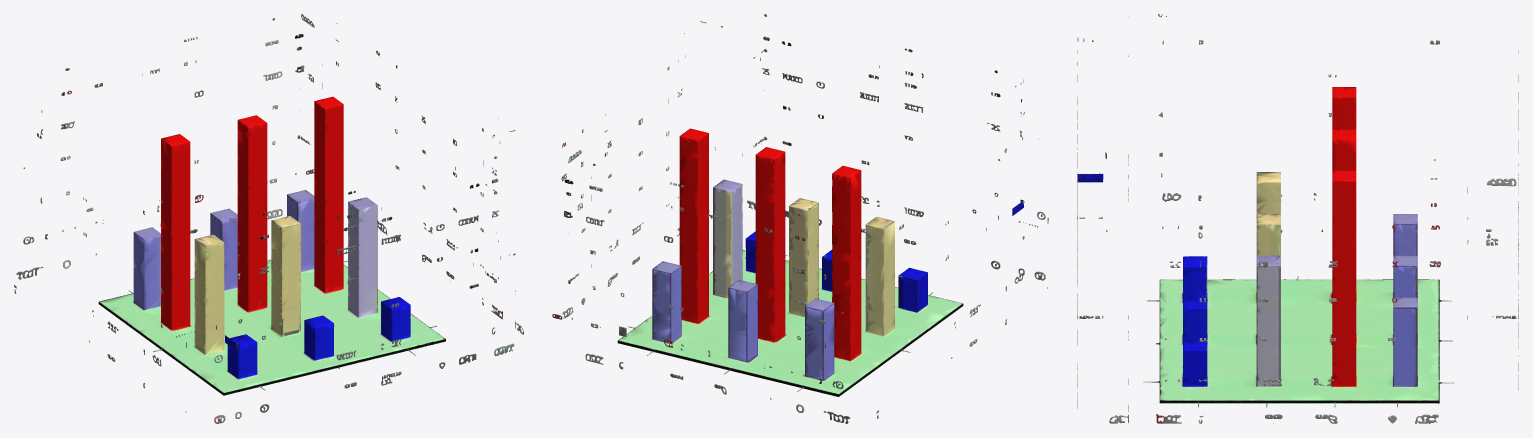
Rendered from model-crm.glb.
3 renders of one model, left to right at view 1: azimuth 30°, elevation 25°; view 2: azimuth 150°, elevation 25°; view 3: azimuth 270°, elevation 25°, orthographic. The views are drawn at different scales.
Bounding box in the file's own units: 1.9 × 1.2 × 1.91.
1 material, 1 textured.
